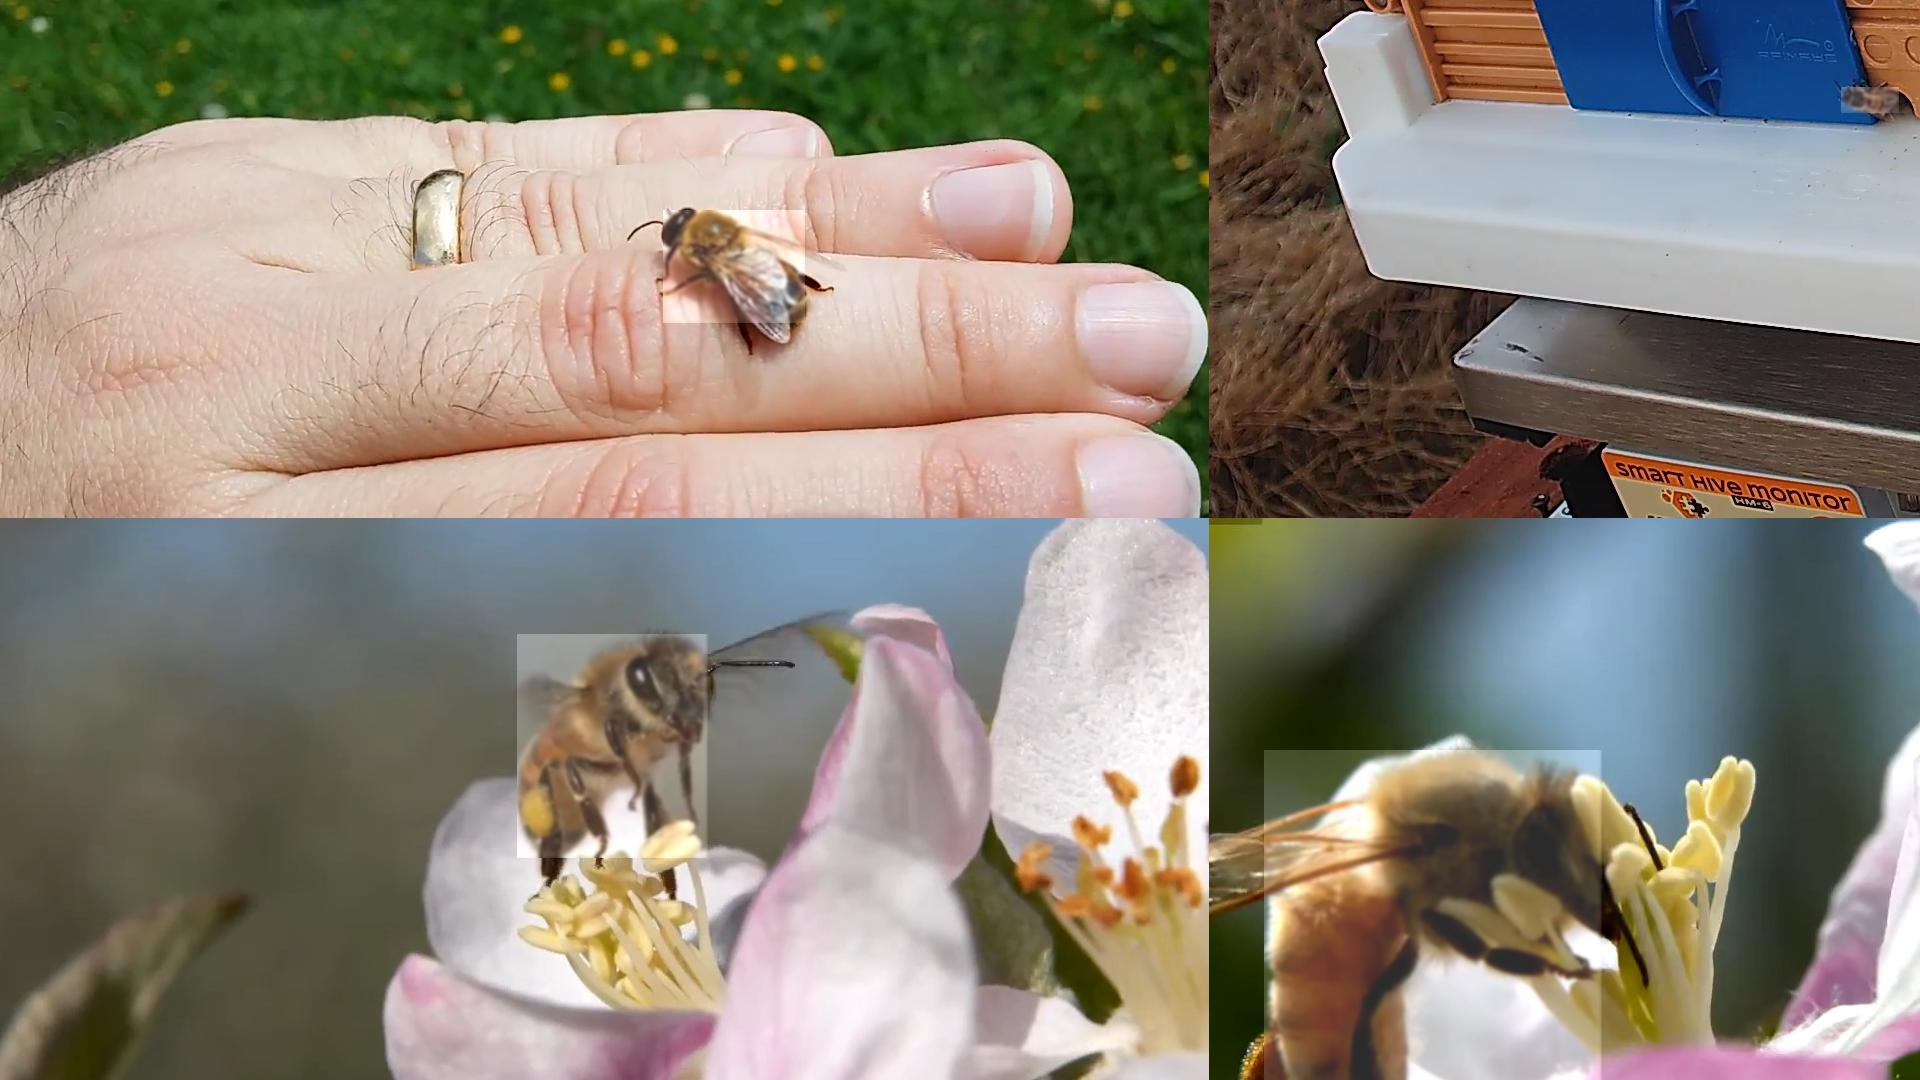bee: (1841, 87, 1900, 115)
drone: (663, 210, 806, 324)
pollenbee: (1265, 750, 1605, 1079), (518, 634, 711, 860)
